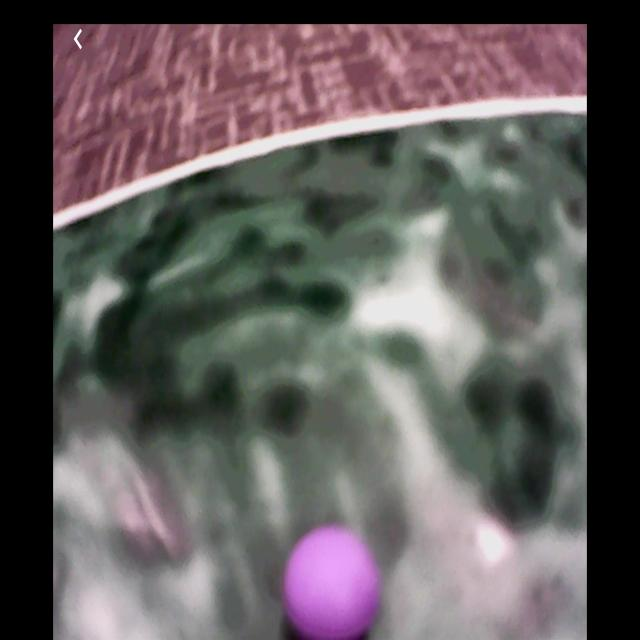ball: (282, 525, 380, 638)
